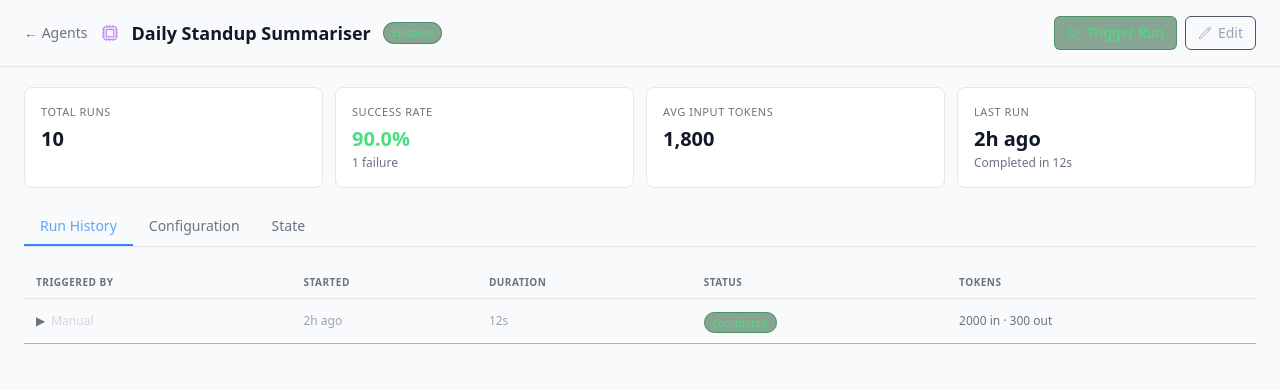
BackgroundAgentDetail component › switches to state tab
Expected: the heading "Daily Standup Summariser" is shown, [132,19,371,47]
What coordinates should you click on to do the following:
click the button "State"
I would click on:
 (288, 226)
Its box is [256,208,321,246].
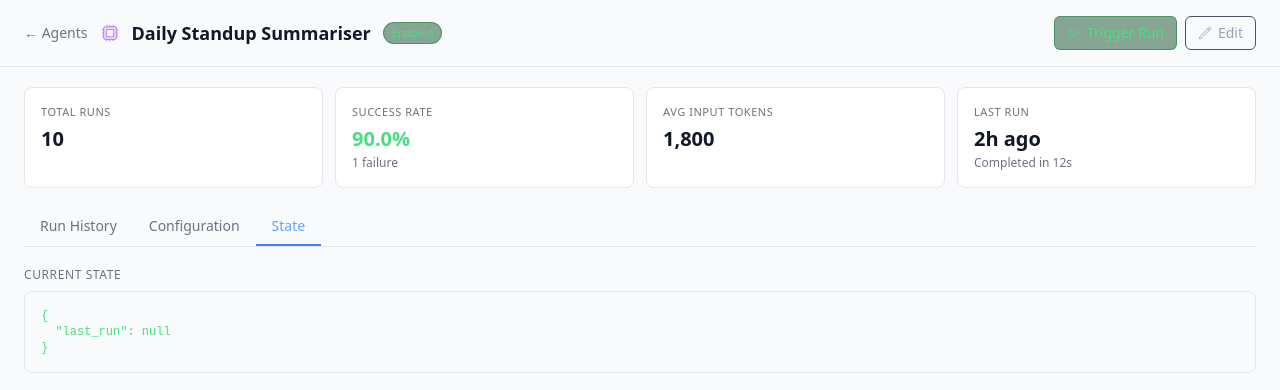
Expected: the text "{ \"last_run\": null }" is shown, [24,290,1256,372]
